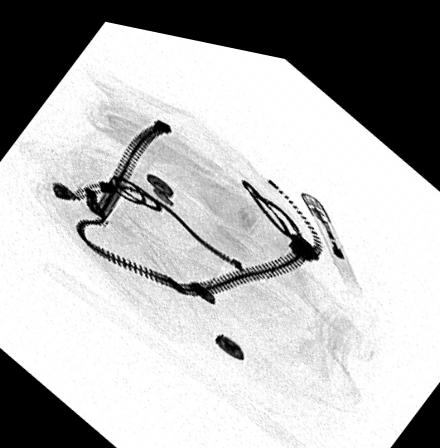Lighter: (300, 176, 356, 268)
